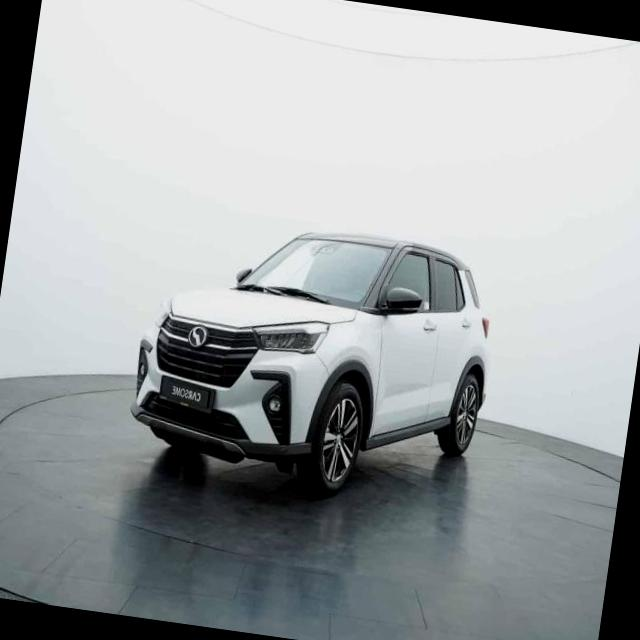PeroduaAtiva: (120, 202, 508, 520)
